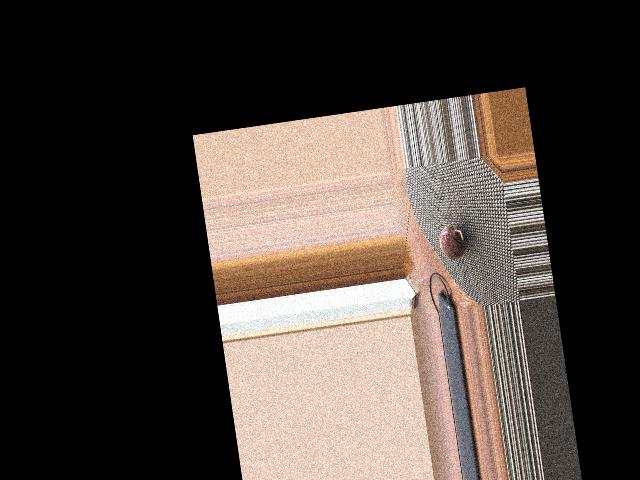beet: (437, 223, 468, 261)
